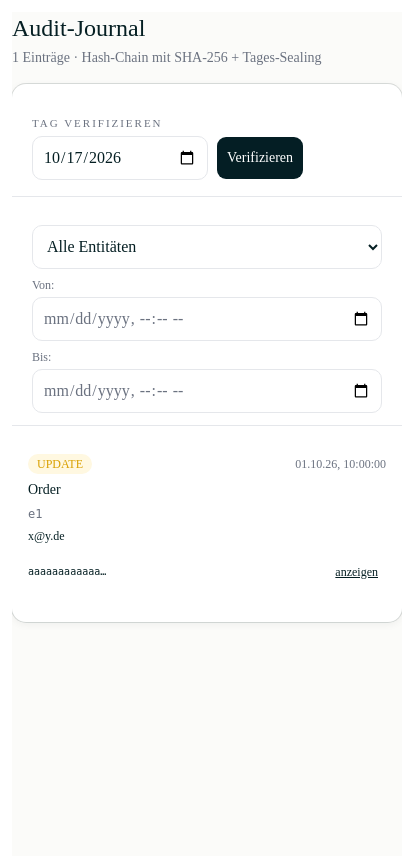
AuditView mobil/tablet › Karte zeigt Hash sichtbar und klappt Detail mit break-all auf (F-M23–25)
Check: the text "aaaaaaaaaaaa…" is shown, box [28, 565, 106, 579]
Click the button "anzeigen" at (357, 572), box [327, 550, 386, 594]
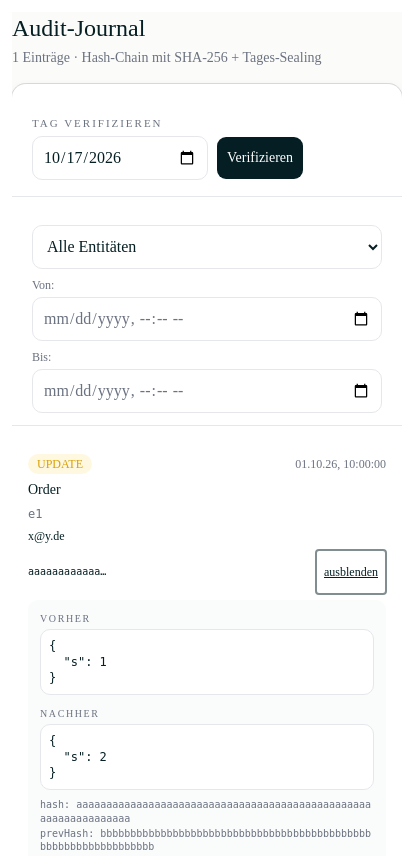
Check: the button "ausblenden" is expanded, box [316, 550, 386, 594]
Check: the text "{ \"s\": 2 }" is shown, box [40, 724, 374, 790]
